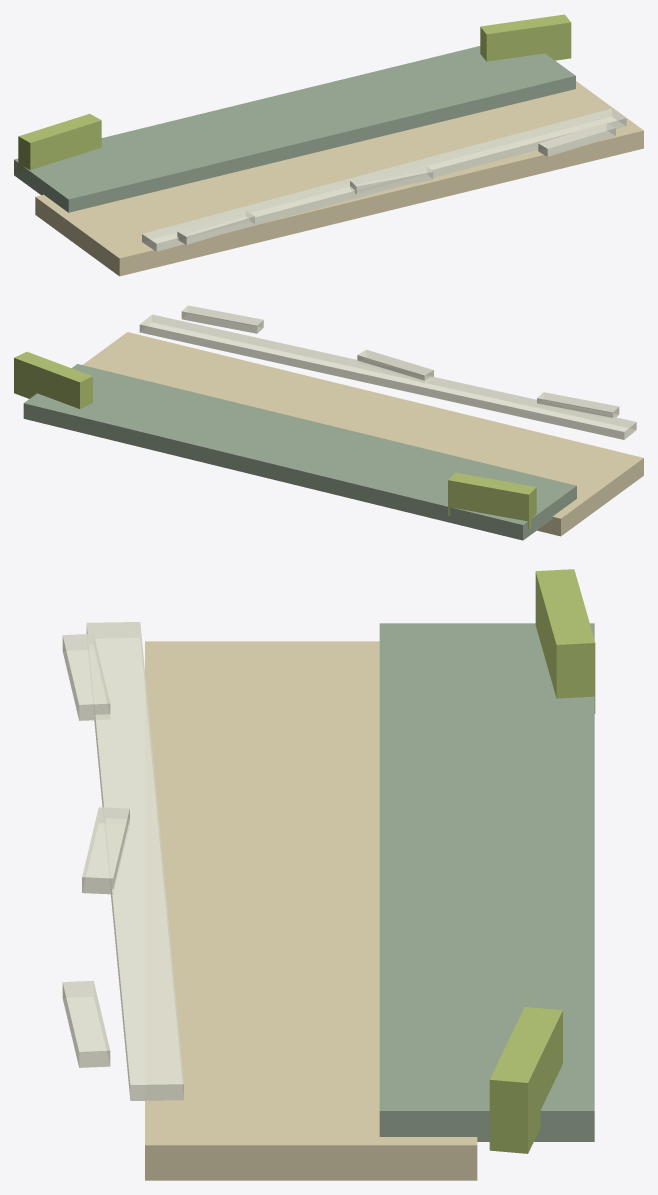
File: transition-shoreline-lod0.glb
3 renders of one model, top to bottom at view 1: azimuth 30°, elevation 25°; view 2: azimuth 150°, elevation 25°; view 3: azimuth 270°, elevation 25°, orthographic. The views are drawn at different scales.
Visible parts, largest first — view 1: wet_ground, sand_shelf, foam_strip, edge_props_grass_2, edge_props_grass_1, foam_break_2, foam_break_3, foam_break_1; view 2: wet_ground, sand_shelf, foam_strip, edge_props_grass_1, edge_props_grass_2, foam_break_3, foam_break_1, foam_break_2; view 3: sand_shelf, wet_ground, foam_strip, edge_props_grass_2, edge_props_grass_1, foam_break_3, foam_break_1, foam_break_2.
Boxes of the visible parts, x1,y1,x2,y2 form: wet_ground: [14, 46, 575, 212]; sand_shelf: [35, 81, 643, 276]; foam_strip: [142, 108, 626, 251]; edge_props_grass_2: [480, 14, 571, 61]; edge_props_grass_1: [18, 113, 101, 174]; foam_break_2: [350, 166, 433, 194]; foam_break_3: [538, 122, 615, 156]; foam_break_1: [177, 210, 254, 244]; wet_ground: [23, 364, 576, 540]; sand_shelf: [83, 332, 643, 536]; foam_strip: [139, 314, 636, 439]; edge_props_grass_1: [448, 472, 536, 529]; edge_props_grass_2: [14, 351, 92, 408]; foam_break_3: [181, 305, 263, 333]; foam_break_1: [537, 392, 619, 419]; foam_break_2: [357, 349, 433, 382]; sand_shelf: [145, 641, 477, 1180]; wet_ground: [379, 623, 594, 1141]; foam_strip: [86, 622, 183, 1100]; edge_props_grass_2: [489, 1007, 562, 1153]; edge_props_grass_1: [535, 569, 595, 713]; foam_break_3: [62, 980, 110, 1067]; foam_break_1: [62, 633, 110, 720]; foam_break_2: [82, 807, 129, 894].
Size of the model in its own units: 1.26 by 0.13 by 0.545.
